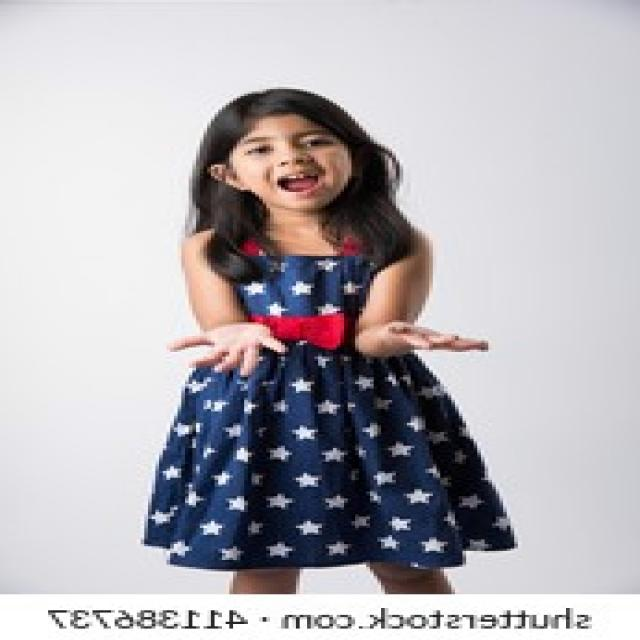child: (126, 80, 518, 601)
